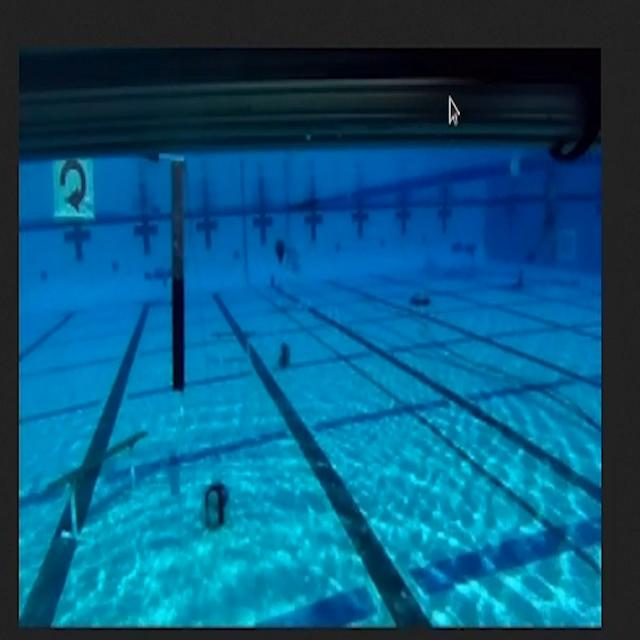Gate: (21, 159, 196, 387)
